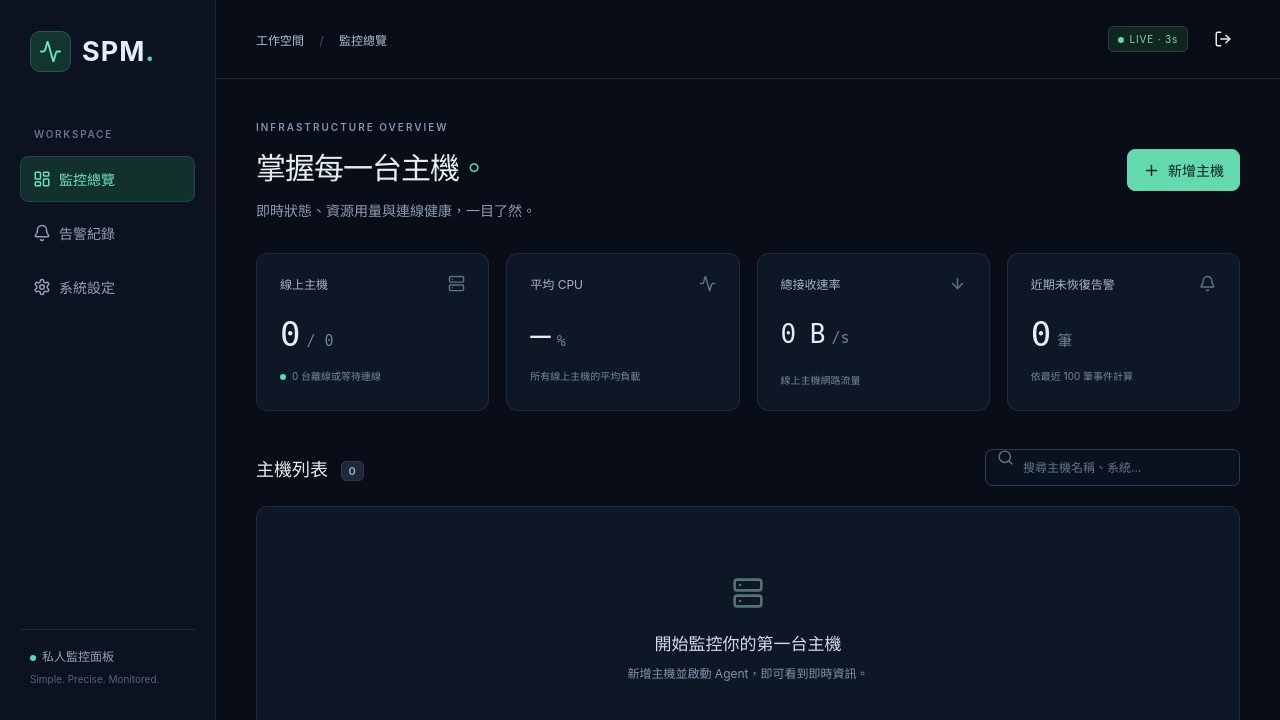
Test case: shows only the token when enrolling an Agent, with no manual node ID
The image size is (1280, 720).
Click the button "新增主機" at (1184, 170), box x1=1127 y1=149 x2=1240 y2=191
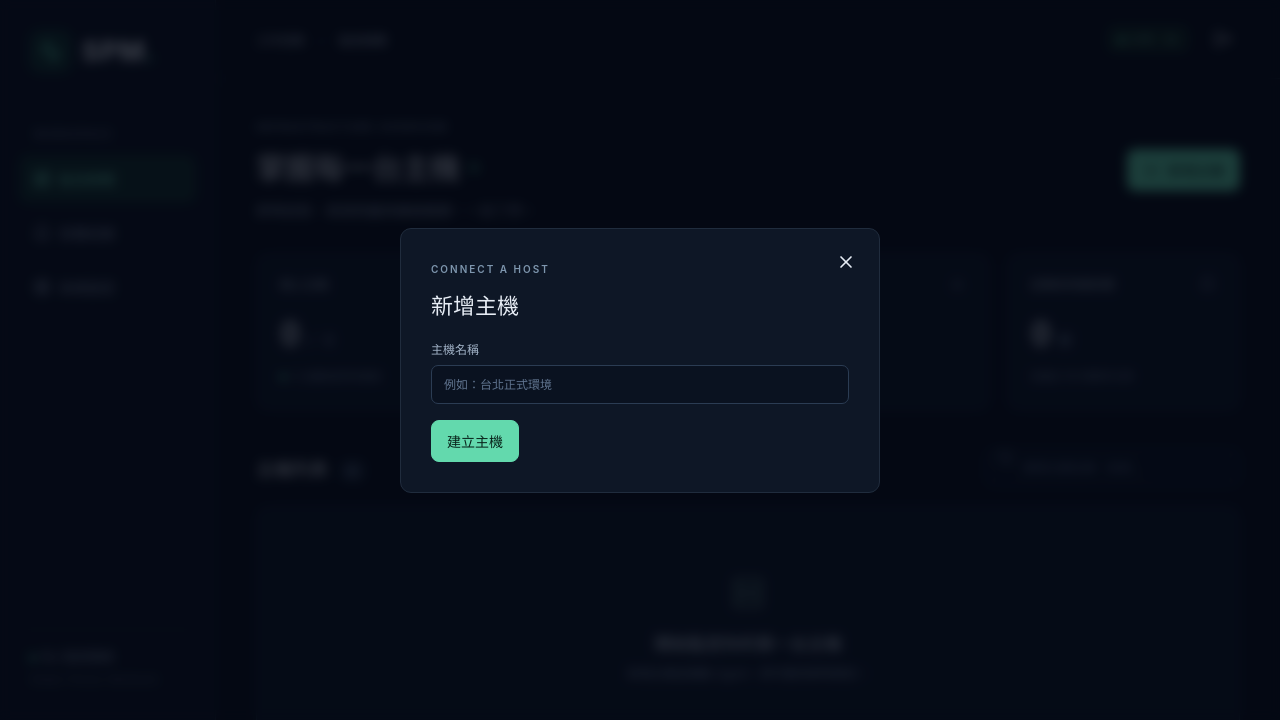
Type "測試主機" into the field with placeholder "例如：台北正式環境" at (640, 384), box x1=431 y1=364 x2=849 y2=404
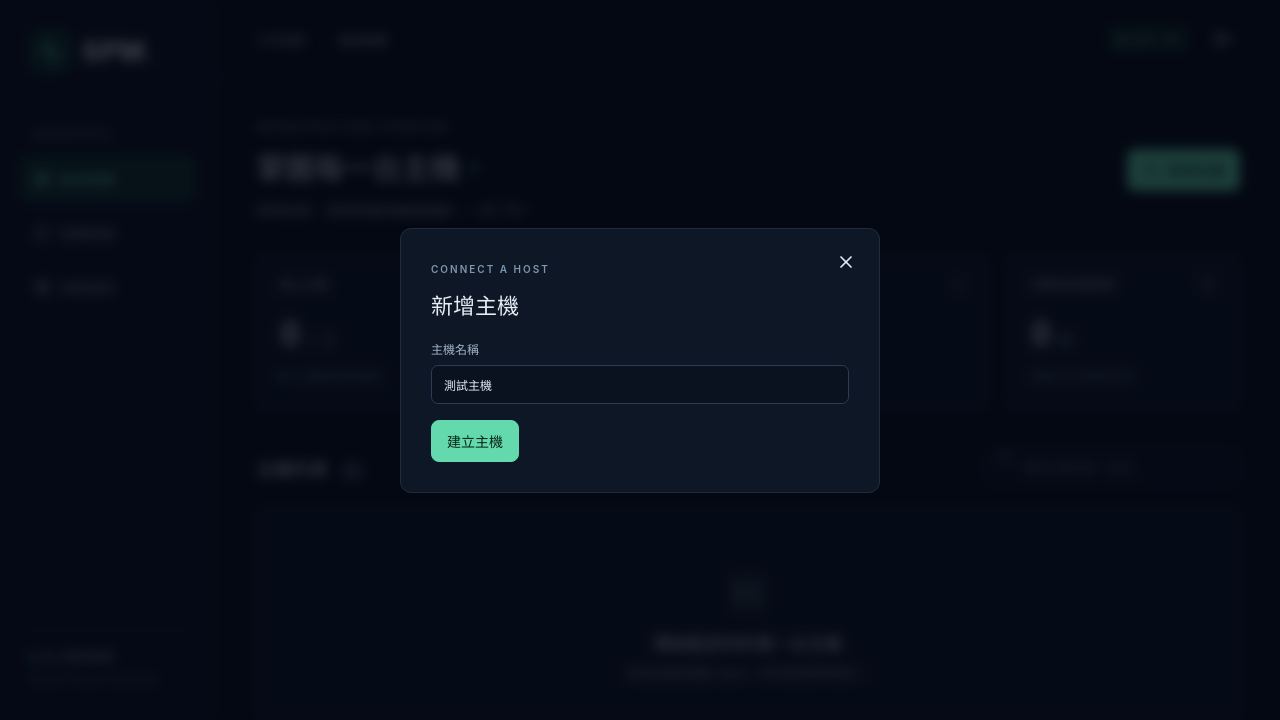
Submit the form, box x1=431 y1=340 x2=849 y2=462
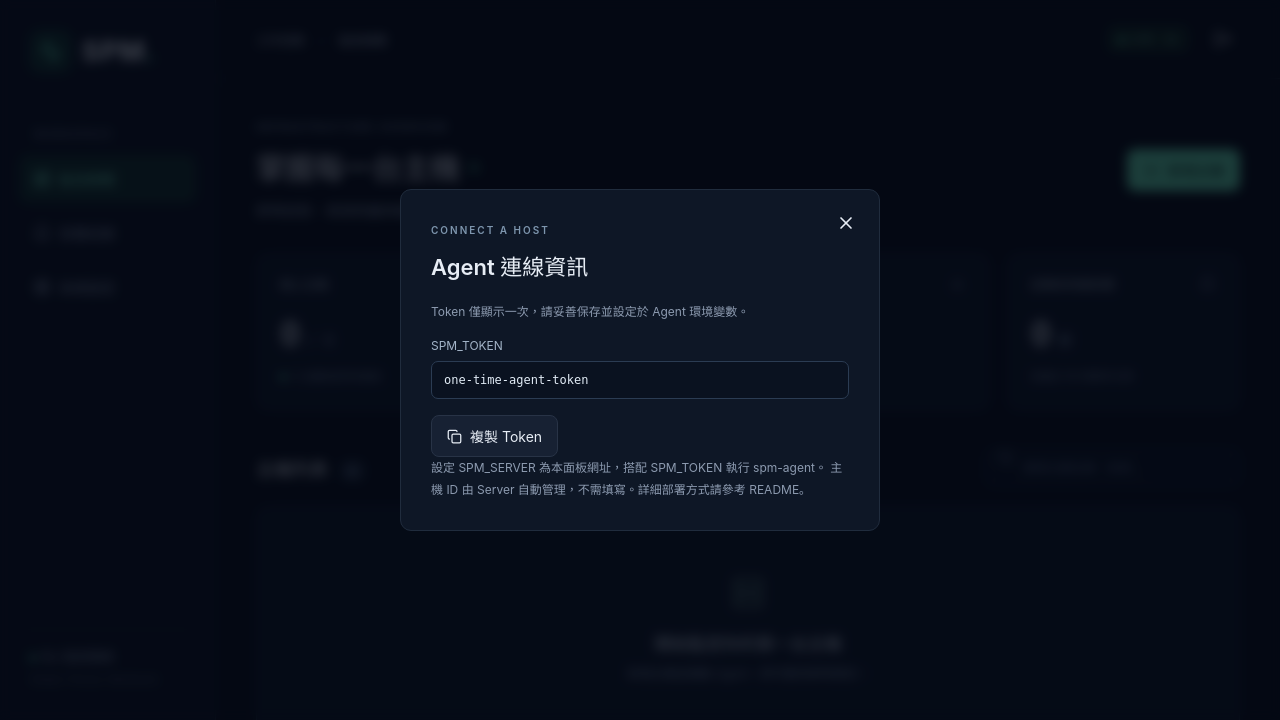
Now the dialog shows "SPM_SERVER", box x1=431 y1=460 x2=842 y2=497
Now the field labelled "SPM_TOKEN" holds "one-time-agent-token", box x1=431 y1=361 x2=849 y2=399
